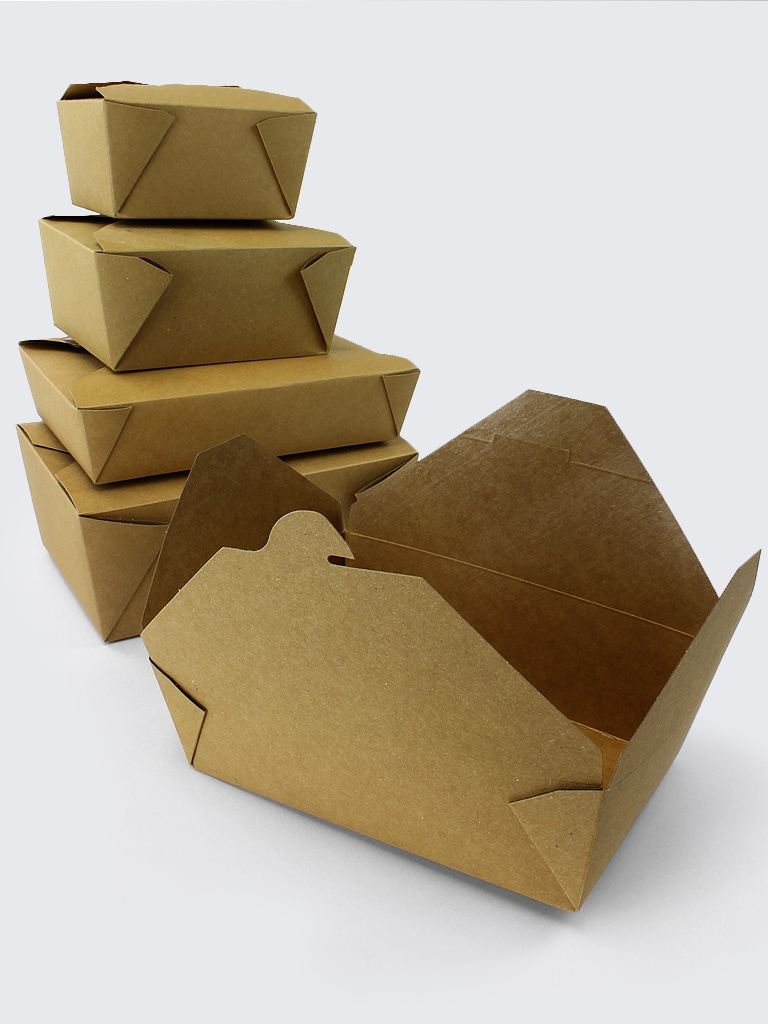Rec_Paper: (168, 383, 765, 923), (1, 76, 453, 622), (56, 77, 328, 240)
